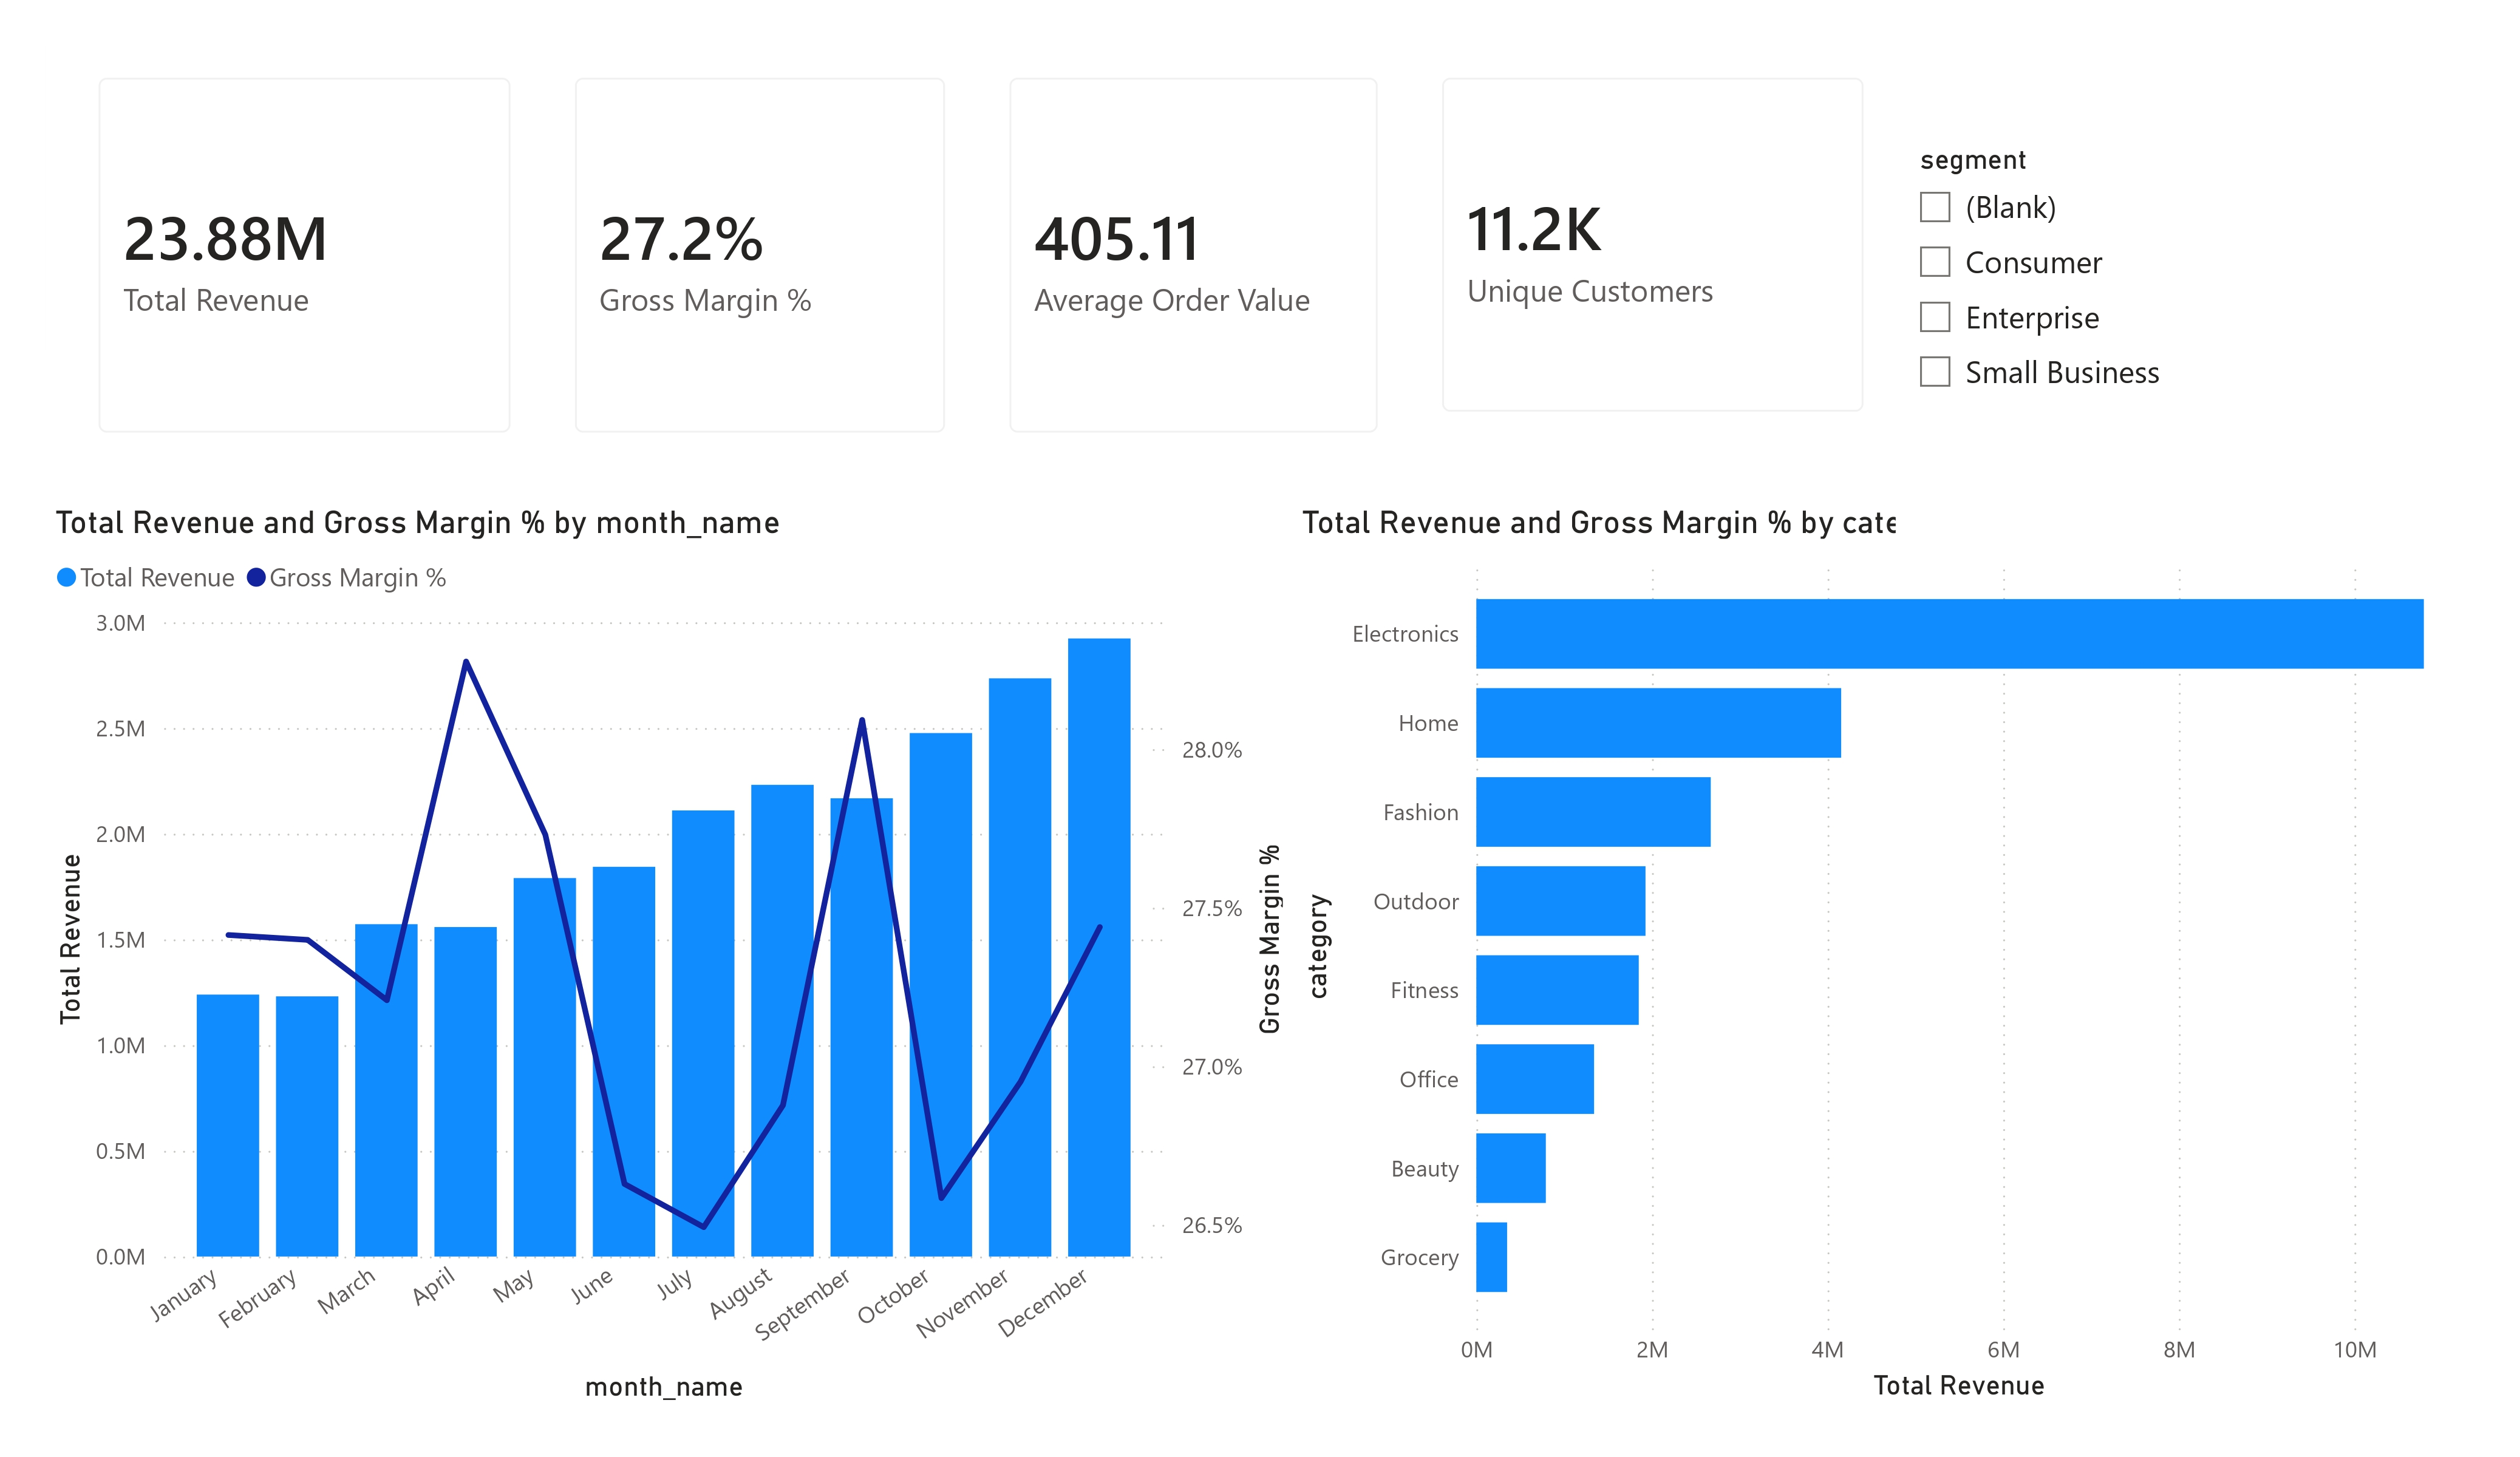

Layout of this report page (visuals, bound fields, positions):
{"tool":"powerbi","page":{"name":"Executive Overview.","canvas":[1280,720],"ordinal":0},"visuals":[{"type":"cardVisual","fields":{"Data":["orders_clean.Total Revenue"]},"box":[10.6,0,251.4,221.1],"z":0},{"type":"cardVisual","fields":{"Data":["orders_clean.Gross Margin %"]},"box":[262,0,228.6,221.1],"z":1000},{"type":"cardVisual","fields":{"Data":["orders_clean.Average Order Value"]},"box":[490.6,0,228.6,221.1],"z":2000},{"type":"cardVisual","fields":{"Data":["orders_clean.Unique Customers"]},"box":[719.2,0,255.9,210.5],"z":3000},{"type":"lineClusteredColumnComboChart","fields":{"Y":["orders_clean.Total Revenue"],"Y2":["orders_clean.Gross Margin %"],"Category":["calendar_clean.year","calendar_clean.month_name"]},"box":[0,240.8,657.2,478.5],"z":4000},{"type":"clusteredBarChart","fields":{"Category":["products_clean.category"],"Y":["orders_clean.Total Revenue"]},"box":[657.2,240.8,622.3,478.5],"z":5000},{"type":"slicer","fields":{"Values":["customers_clean.segment"]},"box":[975.1,46.9,304.4,221.1],"z":6000}]}

Visuals, with their boxes on the page's 1280x720 design canvas (x1, y1, x2, y2). These are canvas units, not pixel positions in the 2520x1457 screenshot, which may show the page scaled, cropped or inside an application window:
cardVisual - orders_clean.Total Revenue: x1=11 y1=0 x2=262 y2=221
cardVisual - orders_clean.Gross Margin %: x1=262 y1=0 x2=491 y2=221
cardVisual - orders_clean.Average Order Value: x1=491 y1=0 x2=719 y2=221
cardVisual - orders_clean.Unique Customers: x1=719 y1=0 x2=975 y2=210
lineClusteredColumnComboChart - orders_clean.Total Revenue x orders_clean.Gross Margin %: x1=0 y1=241 x2=657 y2=719
clusteredBarChart - products_clean.category x orders_clean.Total Revenue: x1=657 y1=241 x2=1280 y2=719
slicer - customers_clean.segment: x1=975 y1=47 x2=1280 y2=268
